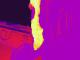Foc: (26, 0, 46, 47)
